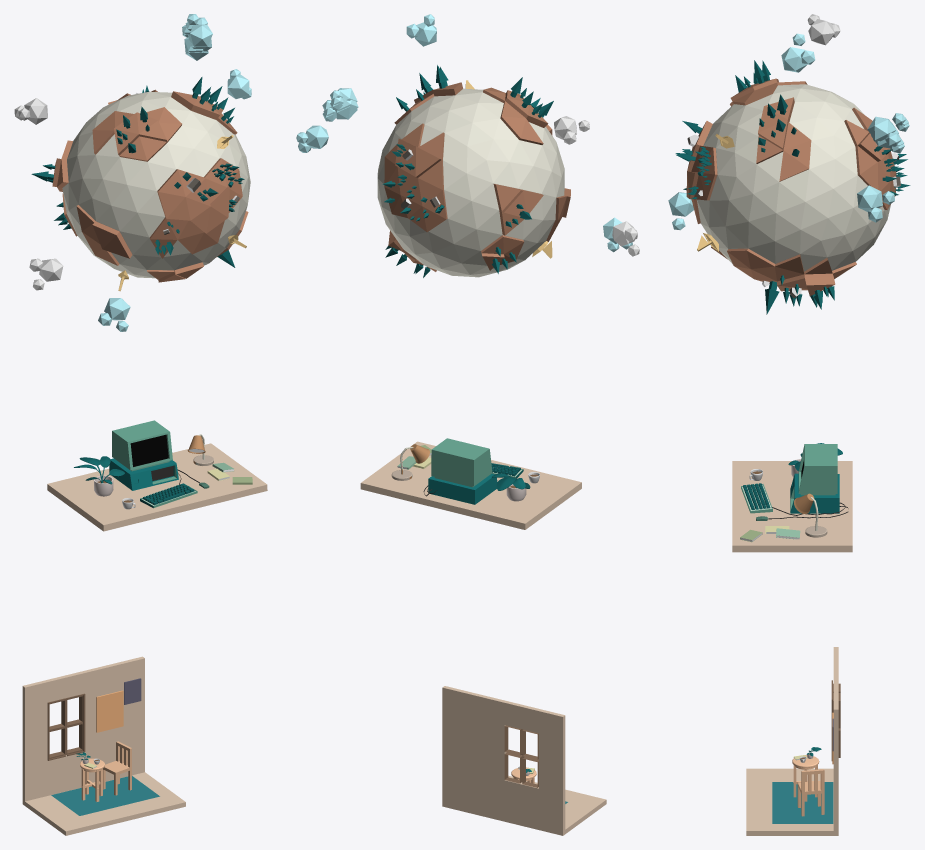
The model's file is globetest9.glb.
The picture shows the model from 3 angles, left to right: view 1: azimuth 30°, elevation 25°; view 2: azimuth 150°, elevation 25°; view 3: azimuth 270°, elevation 25°; orthographic projection. The views are drawn at different scales.
Visible parts, largest first — view 1: Icosphere.001, Plane.005, Icosphere, Plane.003, Plane.004, Plane.079, Plane.008, Plane.007, Plane.001, Cube.005, tabletops.001, Cube.003 (+5 smaller); view 2: Icosphere.001, Plane.005, Icosphere, Plane.003, Plane.004, Plane.079, Plane.001, Plane.007, Icosphere.020, Icosphere.003, Icosphere.007, tabletops.001; view 3: Icosphere.001, Icosphere, Plane.003, Plane.005, Plane.079, Plane.008, Plane.004, Icosphere.020, Plane.001, Cube.003, Icosphere.003, Icosphere.007 (+5 smaller).
Part boxes in pixels (left/top/right/bottom): Icosphere.001: left=62, top=91, right=250, bottom=278; Plane.005: left=22, top=656, right=185, bottom=835; Icosphere: left=52, top=89, right=248, bottom=282; Plane.003: left=47, top=443, right=267, bottom=531; Plane.004: left=112, top=420, right=172, bottom=471; Plane.079: left=31, top=77, right=244, bottom=267; Plane.008: left=51, top=776, right=159, bottom=815; Plane.007: left=47, top=693, right=85, bottom=760; Plane.001: left=109, top=458, right=178, bottom=490; Cube.005: left=96, top=690, right=123, bottom=732; tabletops.001: left=74, top=456, right=124, bottom=496; Cube.003: left=103, top=741, right=131, bottom=795; Icosphere.001: left=377, top=88, right=564, bottom=277; Plane.005: left=442, top=686, right=606, bottom=835; Icosphere: left=384, top=82, right=570, bottom=271; Plane.003: left=360, top=441, right=581, bottom=529; Plane.004: left=431, top=438, right=492, bottom=487; Plane.079: left=382, top=65, right=553, bottom=277; Plane.001: left=428, top=473, right=497, bottom=504; Plane.007: left=504, top=725, right=538, bottom=787; Icosphere.020: left=322, top=88, right=358, bottom=121; Icosphere.003: left=296, top=125, right=328, bottom=152; Icosphere.007: left=406, top=14, right=436, bottom=46; tabletops.001: left=491, top=473, right=530, bottom=501; Icosphere.001: left=696, top=84, right=890, bottom=271; Icosphere: left=686, top=78, right=896, bottom=295; Plane.003: left=732, top=461, right=852, bottom=552; Plane.005: left=746, top=647, right=838, bottom=835; Plane.079: left=675, top=60, right=910, bottom=314; Plane.008: left=772, top=782, right=833, bottom=823; Plane.004: left=798, top=444, right=837, bottom=495; Icosphere.020: left=867, top=113, right=909, bottom=153; Plane.001: left=790, top=473, right=839, bottom=513; Cube.003: left=797, top=769, right=824, bottom=816; Icosphere.003: left=857, top=185, right=894, bottom=222; Icosphere.007: left=781, top=33, right=815, bottom=72.
Size of the model in its own units: 3.49 by 9.14 by 2.45.
